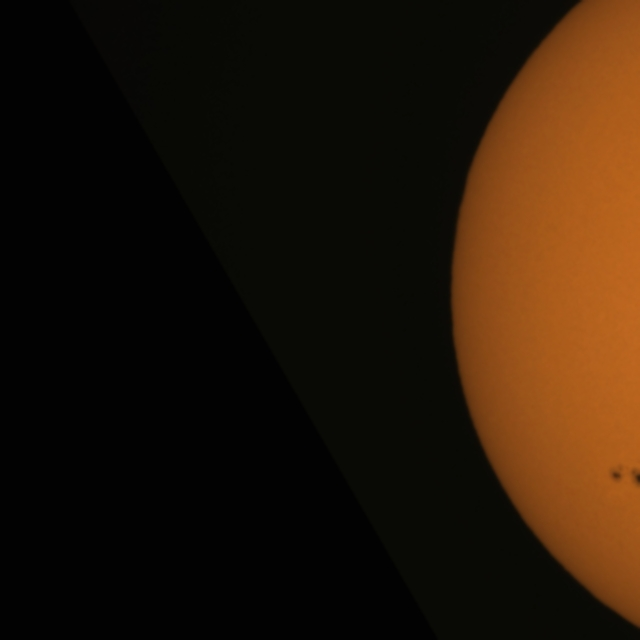sunspot: (608, 462, 640, 489)
